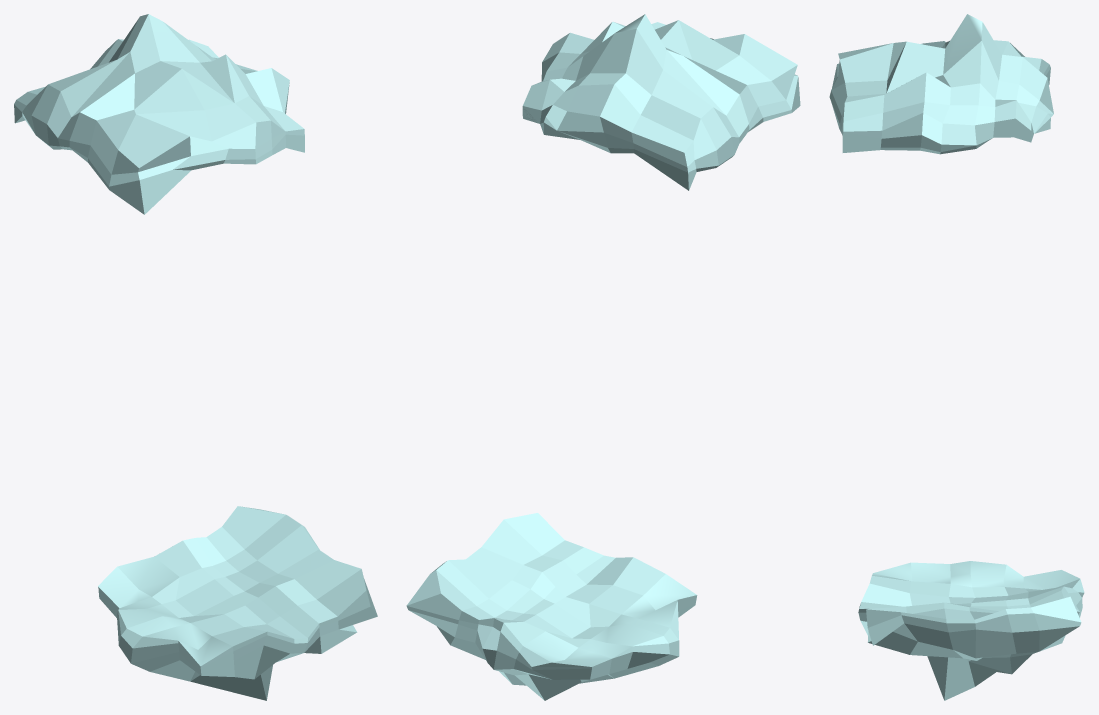
Rendered from ice_caps_model.fbx.
3 views of the same model, side by side, from view 1: azimuth 30°, elevation 25°; view 2: azimuth 150°, elevation 25°; view 3: azimuth 270°, elevation 25° (orthographic). The views are drawn at different scales.
Visible parts, largest first — view 1: ice_cap_2, ice_cap_1; view 2: ice_cap_2, ice_cap_1; view 3: ice_cap_1, ice_cap_2.
Boxes of the visible parts, x1=… form: ice_cap_2: x1=98, y1=506, x2=377, y2=700; ice_cap_1: x1=14, y1=14, x2=304, y2=214; ice_cap_2: x1=406, y1=513, x2=697, y2=700; ice_cap_1: x1=522, y1=14, x2=800, y2=190; ice_cap_1: x1=829, y1=14, x2=1053, y2=154; ice_cap_2: x1=858, y1=561, x2=1084, y2=700.
Bounding box in the file's own units: 94.12 × 230 × 83.18.
Materials: 1 (1 with a texture image).
